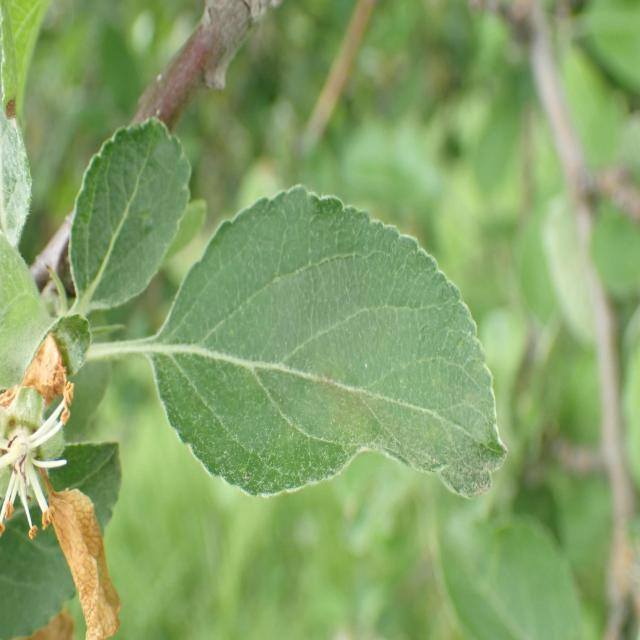scab: (176, 280, 507, 500)
